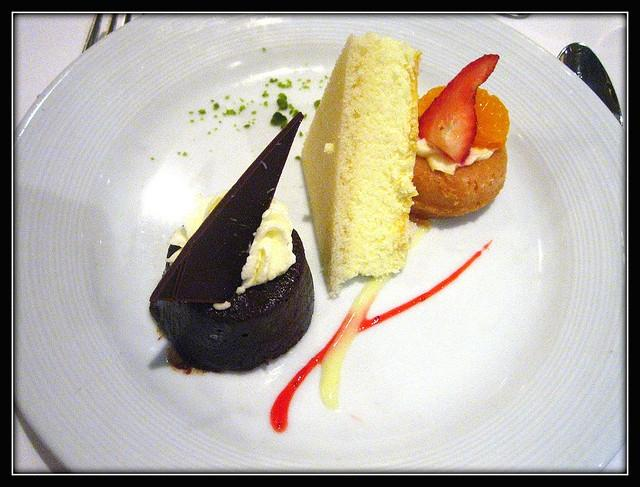orange: (418, 85, 509, 149)
strawberry: (418, 54, 499, 166)
